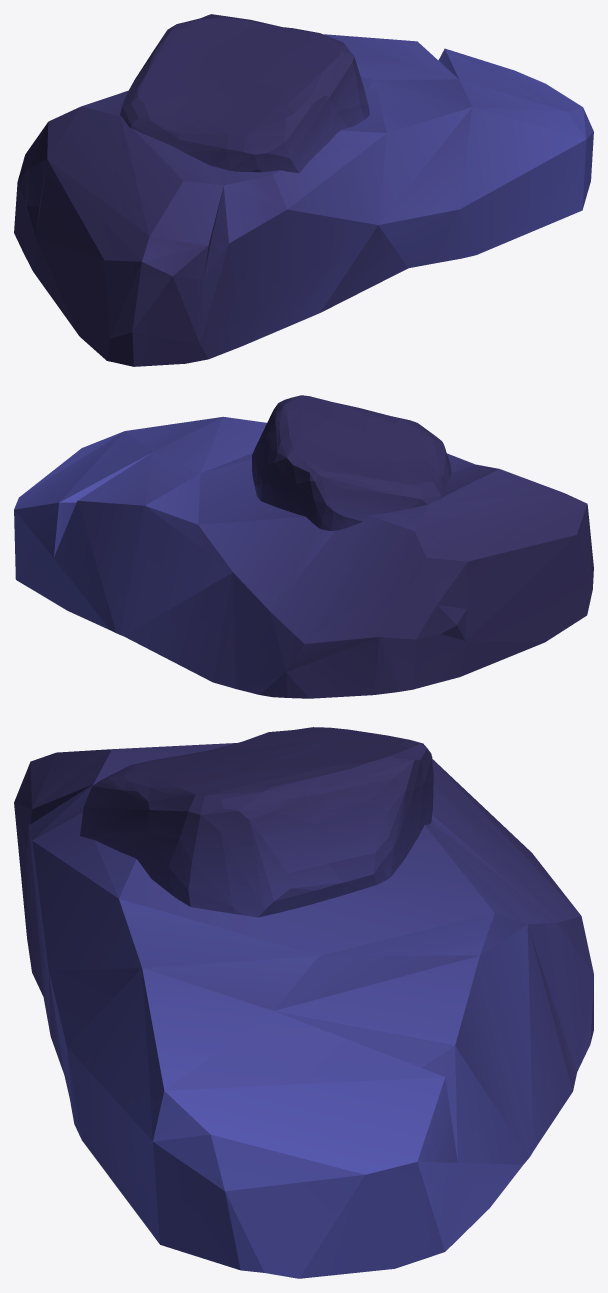
Rendered from Rock_02.fbx.
3 renders of one model, top to bottom at view 1: azimuth 30°, elevation 25°; view 2: azimuth 150°, elevation 25°; view 3: azimuth 270°, elevation 25°, orthographic. The views are drawn at different scales.
Visible parts, largest first — view 1: Floating_Rock_1_Big_0_1.072; view 2: Floating_Rock_1_Big_0_1.072; view 3: Floating_Rock_1_Big_0_1.072.
Part boxes in pixels (left/top/right/bottom): Floating_Rock_1_Big_0_1.072: left=14, top=14, right=593, bottom=366; Floating_Rock_1_Big_0_1.072: left=14, top=395, right=593, bottom=698; Floating_Rock_1_Big_0_1.072: left=14, top=727, right=593, bottom=1278.
Bounding box in the file's own units: 865 × 379 × 556.
